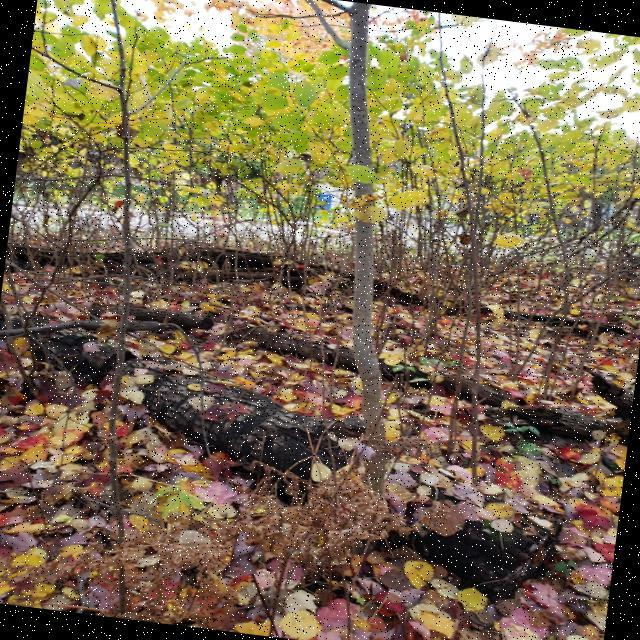fallen_object: (0, 286, 584, 609), (68, 271, 640, 462)
